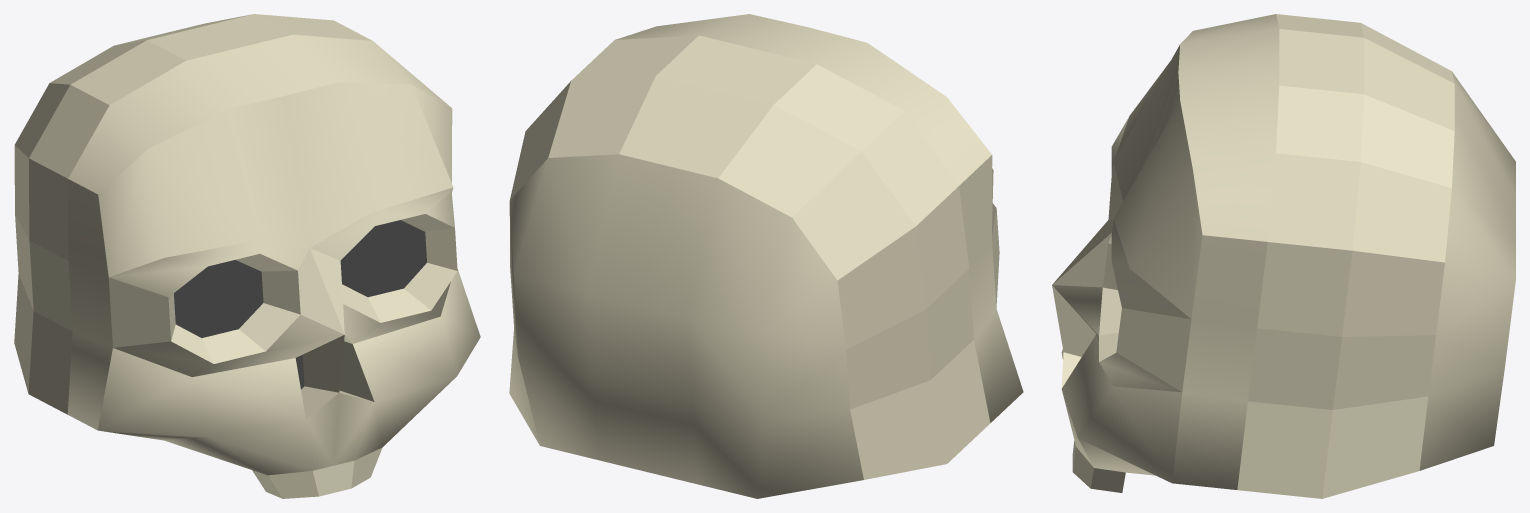
The model's file is Craneo.fbx.
3 views of the same model, side by side, from view 1: azimuth 30°, elevation 25°; view 2: azimuth 150°, elevation 25°; view 3: azimuth 270°, elevation 25° (orthographic). The views are drawn at different scales.
Parts seen in each view (by area): view 1: Craneo; view 2: Craneo; view 3: Craneo.
Boxes of the visible parts, x1,y1,x2,y2 form: Craneo: (14,14,480,498); Craneo: (509,14,1023,498); Craneo: (1052,14,1515,498).
Bounding box in the file's own units: 27.91 × 26.47 × 27.04.
